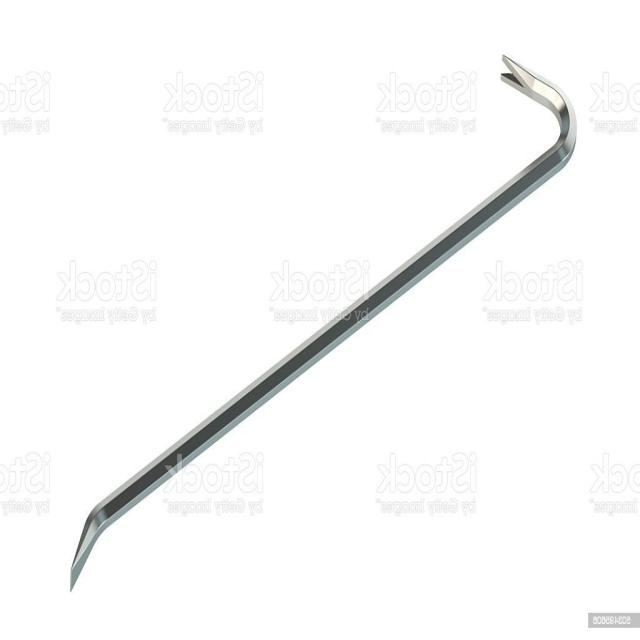Linggis: (74, 54, 578, 581)
